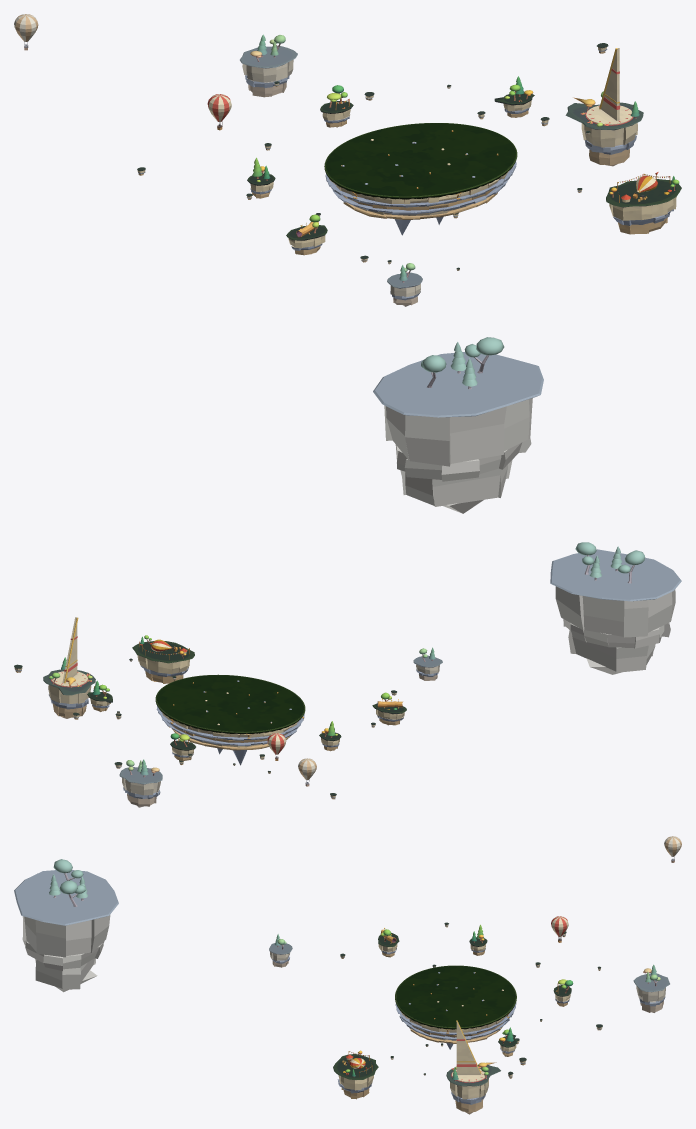
Rendered from gnomon.glb.
3 renders of one model, top to bottom at view 1: azimuth 30°, elevation 25°; view 2: azimuth 150°, elevation 25°; view 3: azimuth 270°, elevation 25°, orthographic. The views are drawn at different scales.
Visible parts, largest first — view 1: Sight_FarMesa_Stone, Sight_FarMesa_Cap, Sundial_Stone, Islands_Stone, Meadow_11, Meadow_12, Sight_LaunchIsle_Stone, Sight_FarMesa_Crown, Garden_Stone, Sight_LaunchIsle_Cap, Garden_Cap, Islands_Cap (+9 smaller); view 2: Sight_FarMesa_Stone, Sight_FarMesa_Cap, Sundial_Stone, Islands_Stone, Sight_FarMesa_Crown, Meadow_11, Meadow_12, Sight_LaunchIsle_Stone, Garden_Stone, Sight_LaunchIsle_Cap, Islands_Cap, Meadow_21 (+9 smaller); view 3: Sight_FarMesa_Stone, Sight_FarMesa_Cap, Sundial_Stone, Meadow_12, Meadow_11, Sight_FarMesa_Crown, Islands_Stone, Sight_LaunchIsle_Cap, Meadow_02, Meadow_22, Islands_Cap, Meadow_01 (+6 smaller).
Boxes of the visible parts, x1,y1,x2,y2 form: Sight_FarMesa_Stone: (384, 398, 532, 513); Sight_FarMesa_Cap: (373, 352, 543, 417); Sundial_Stone: (581, 48, 637, 166); Islands_Stone: (242, 59, 420, 306); Meadow_11: (354, 148, 435, 183); Meadow_12: (406, 136, 487, 170); Sight_LaunchIsle_Stone: (609, 197, 676, 234); Sight_FarMesa_Crown: (421, 337, 504, 386); Garden_Stone: (250, 100, 531, 255); Sight_LaunchIsle_Cap: (606, 178, 681, 207); Garden_Cap: (247, 93, 534, 240); Islands_Cap: (240, 46, 422, 288); Sight_FarMesa_Stone: (555, 586, 675, 674); Sight_FarMesa_Cap: (550, 549, 681, 601); Sundial_Stone: (48, 617, 91, 718); Islands_Stone: (122, 664, 439, 807); Sight_FarMesa_Crown: (575, 542, 645, 577); Meadow_11: (219, 695, 282, 721); Meadow_12: (178, 685, 241, 711); Sight_LaunchIsle_Stone: (137, 655, 189, 683); Garden_Stone: (90, 698, 404, 760); Sight_LaunchIsle_Cap: (132, 641, 194, 663); Islands_Cap: (119, 655, 442, 784); Meadow_21: (199, 712, 258, 731); Sight_FarMesa_Stone: (22, 915, 110, 992); Sight_FarMesa_Cap: (14, 870, 118, 925); Sundial_Stone: (450, 1021, 488, 1114); Meadow_12: (433, 996, 477, 1015); Meadow_11: (433, 978, 477, 996); Sight_FarMesa_Crown: (49, 859, 87, 898); Islands_Stone: (270, 951, 665, 1012); Sight_LaunchIsle_Cap: (333, 1054, 378, 1079); Meadow_02: (396, 996, 433, 1015); Meadow_22: (478, 996, 515, 1015); Islands_Cap: (269, 943, 669, 992); Meadow_01: (396, 978, 433, 996).
Bounding box in the file's own units: 1319 × 470 × 1935.
101 materials, 101 textured.
